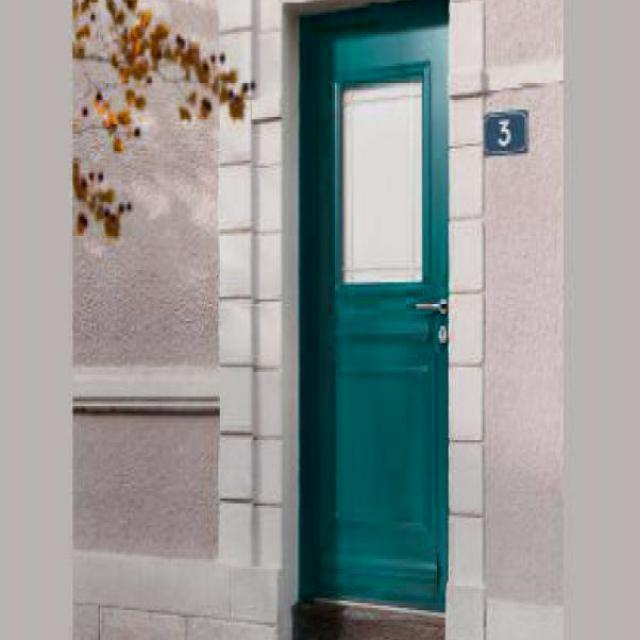door: (296, 1, 450, 613)
